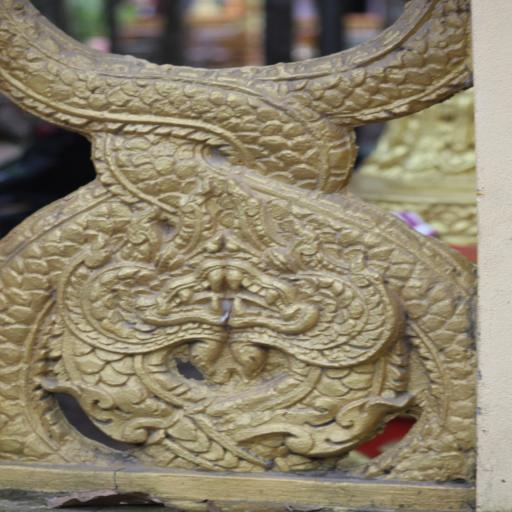ran: (221, 257, 398, 478), (50, 256, 225, 472)
